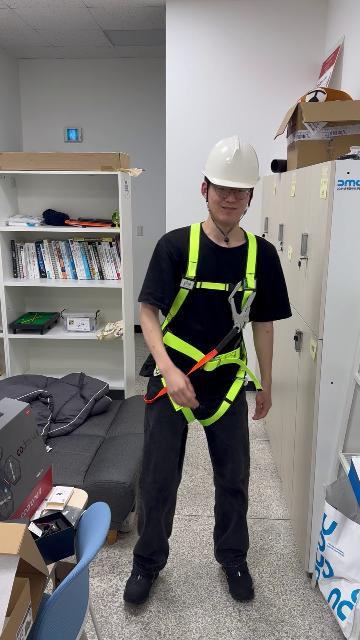helmet_worn: (200, 135, 263, 189)
shoe_worn: (124, 565, 163, 605), (221, 561, 254, 601)
vest_worn: (147, 232, 260, 416)
